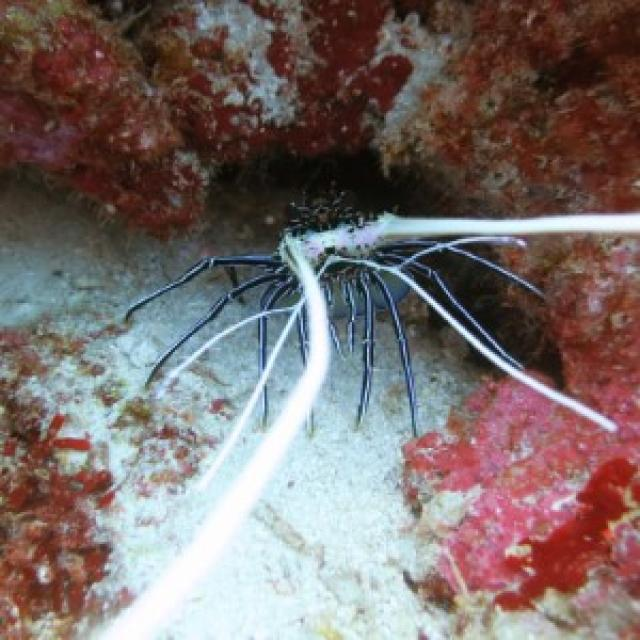lobsters: (118, 188, 578, 442)
